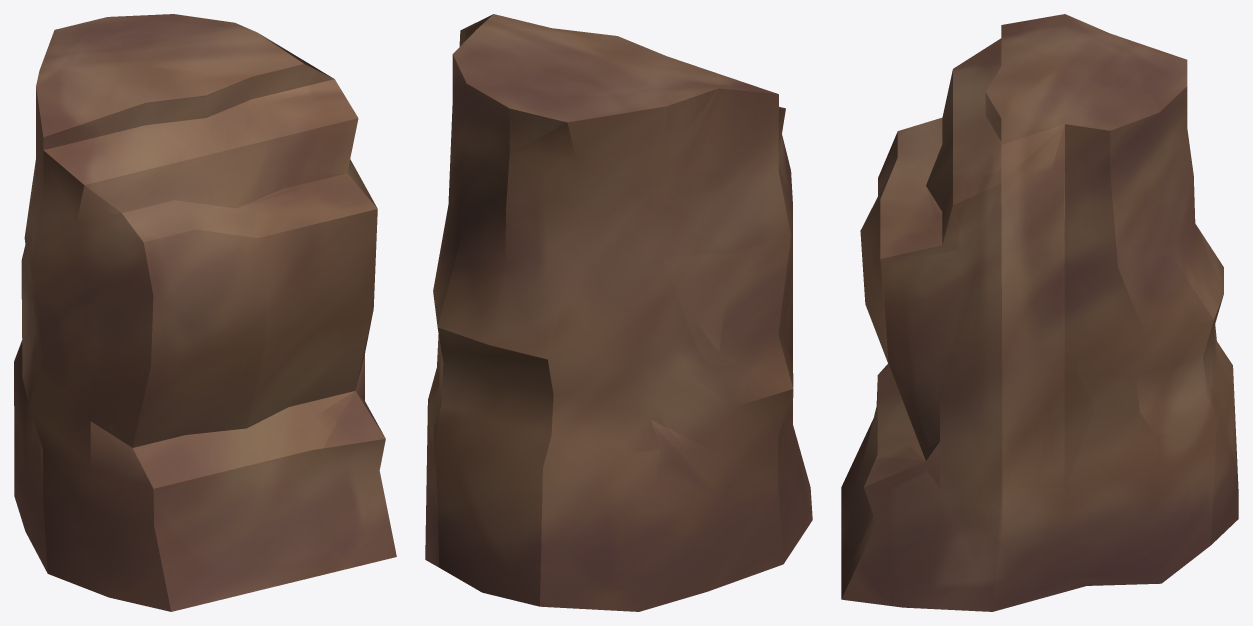
File: batu4.fbx
3 renders of one model, left to right at view 1: azimuth 30°, elevation 25°; view 2: azimuth 150°, elevation 25°; view 3: azimuth 270°, elevation 25°, orthographic. The views are drawn at different scales.
Parts seen in each view (by area): view 1: batu4; view 2: batu4; view 3: batu4.
Boxes of the visible parts, x1,y1,x2,y2 form: batu4: (14, 14, 396, 611); batu4: (425, 14, 812, 611); batu4: (841, 14, 1238, 611).
Size of the model in its own units: 298 by 412 by 319.
